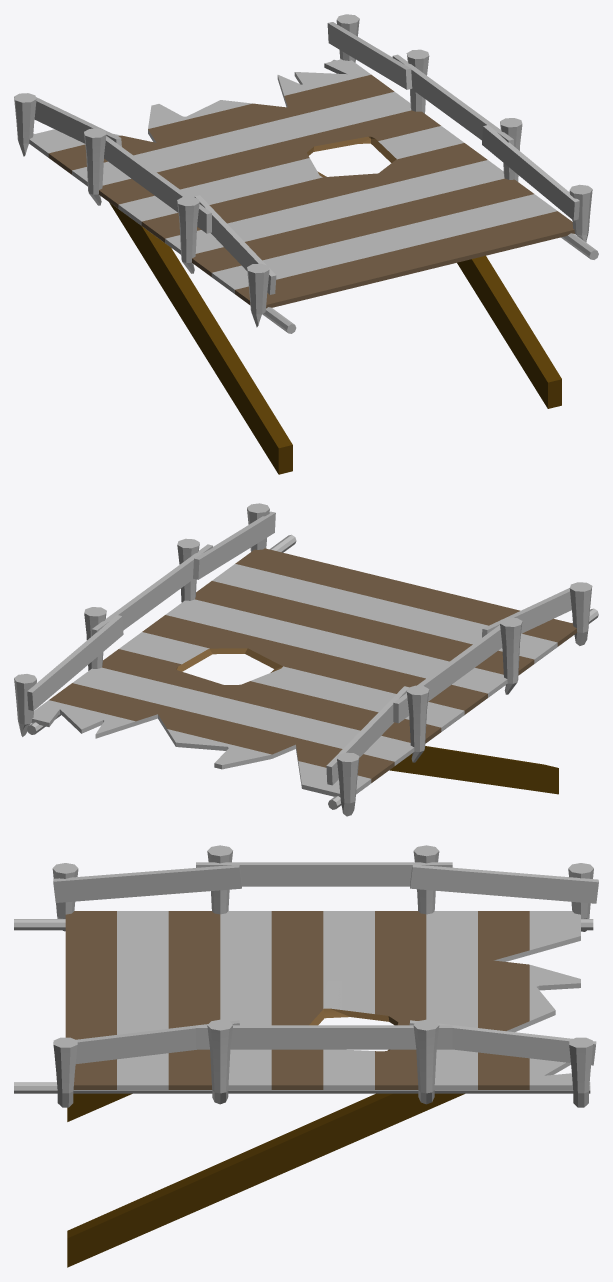
The model's file is BrokenBridge_One.fbx.
3 views of the same model, one above another, from view 1: azimuth 30°, elevation 25°; view 2: azimuth 150°, elevation 25°; view 3: azimuth 270°, elevation 25° (orthographic). The views are drawn at different scales.
Parts seen in each view (by area): view 1: BrokenBridge_1Legs; view 2: BrokenBridge_1Legs; view 3: BrokenBridge_1Legs.
Boxes of the visible parts, bbox=[...] form: BrokenBridge_1Legs: bbox=[14, 14, 598, 474]; BrokenBridge_1Legs: bbox=[14, 503, 598, 816]; BrokenBridge_1Legs: bbox=[14, 845, 598, 1267].
Size of the model in its own units: 8.5 by 5.4 by 11.35.
